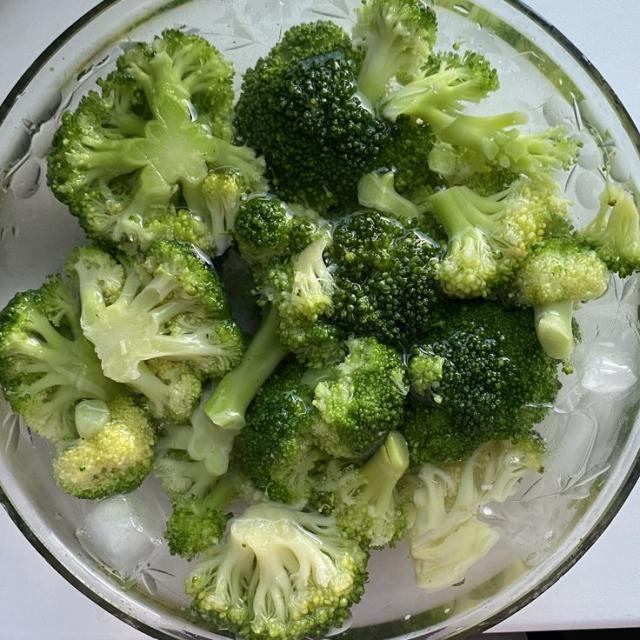broccoli: (48, 30, 266, 253), (236, 22, 433, 211), (0, 276, 155, 499), (66, 240, 245, 419), (205, 210, 341, 430), (235, 22, 390, 210), (401, 300, 559, 464), (186, 503, 367, 639), (0, 276, 122, 442), (410, 440, 543, 590), (327, 211, 442, 348), (429, 180, 553, 298), (154, 407, 239, 559), (239, 362, 326, 503), (512, 235, 610, 360), (312, 338, 408, 458), (313, 431, 409, 548), (204, 306, 290, 431), (54, 396, 156, 499), (436, 112, 579, 184), (380, 51, 499, 131), (353, 0, 437, 105), (166, 474, 238, 559), (580, 181, 639, 277), (373, 116, 438, 198), (428, 142, 519, 196), (358, 170, 421, 222)
